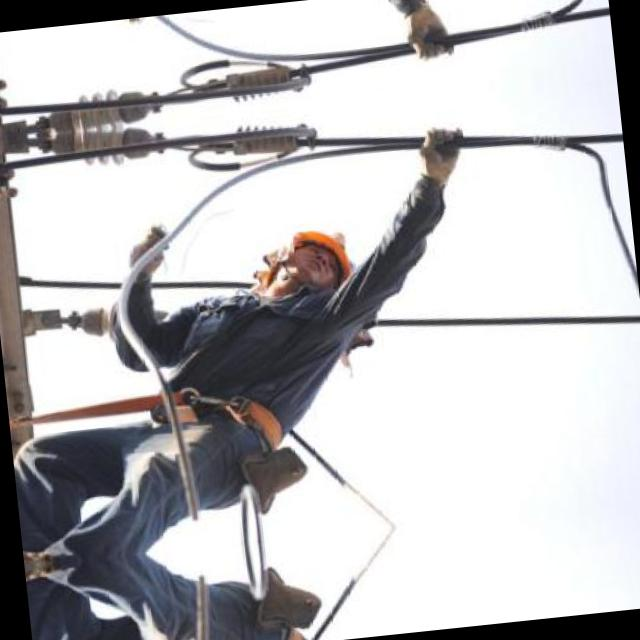helmet: (270, 216, 356, 299)
